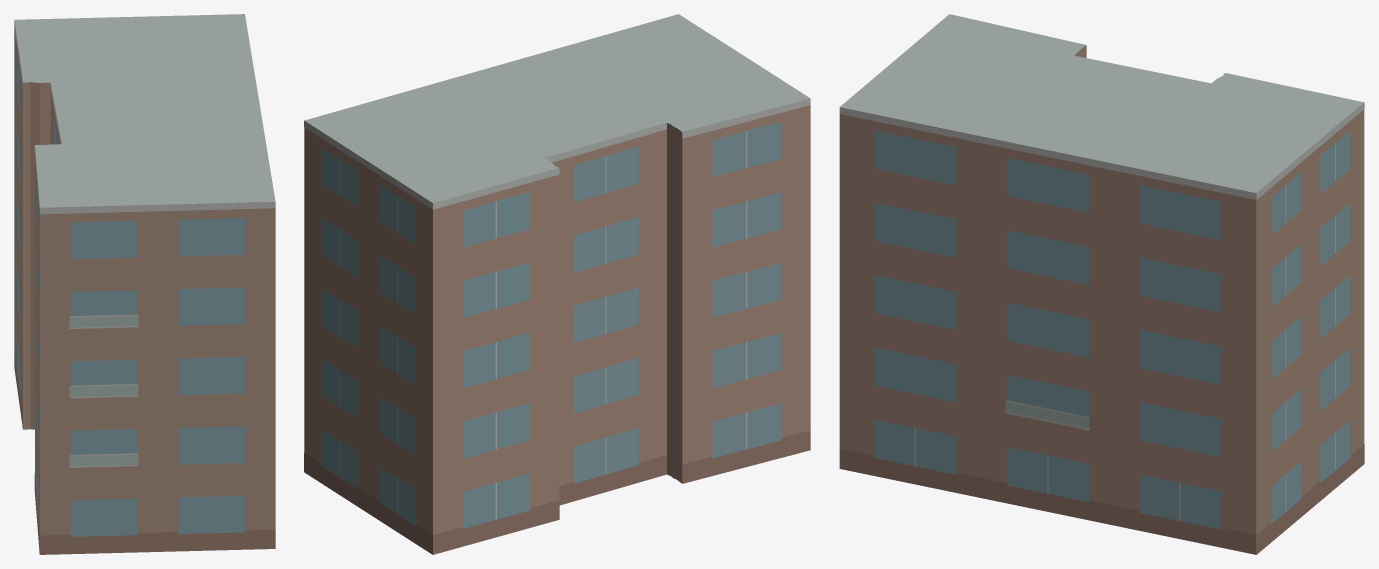
File: survey-upis-32889239.glb
The picture shows the model from 3 angles, left to right: view 1: azimuth 30°, elevation 25°; view 2: azimuth 150°, elevation 25°; view 3: azimuth 270°, elevation 25°; orthographic projection. The views are drawn at different scales.
Parts seen in each view (by area): view 1: survey-upis-32889239.tmp; view 2: survey-upis-32889239.tmp; view 3: survey-upis-32889239.tmp.
Boxes of the visible parts, x1=… form: survey-upis-32889239.tmp: x1=14, y1=14, x2=275, y2=554; survey-upis-32889239.tmp: x1=304, y1=14, x2=810, y2=554; survey-upis-32889239.tmp: x1=839, y1=14, x2=1364, y2=554.
Bounding box in the file's own units: 13.83 × 13 × 17.11.
